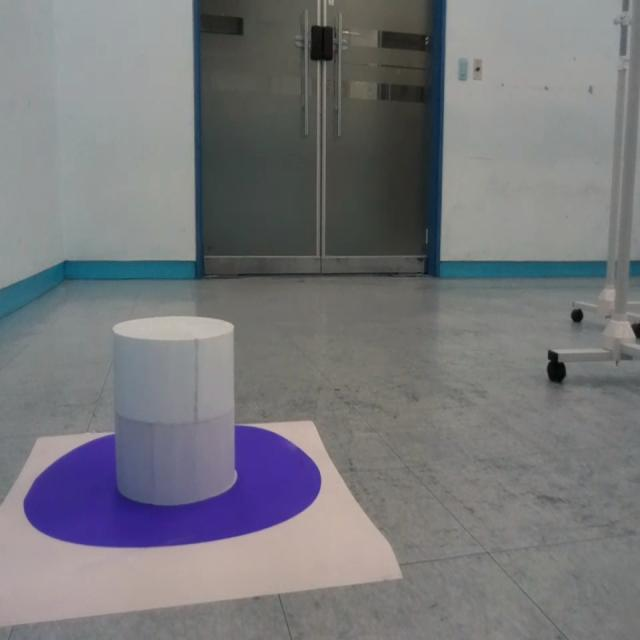cylinder: (111, 316, 236, 506)
